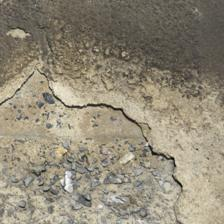Crack: (14, 72, 54, 224), (0, 38, 45, 150)
